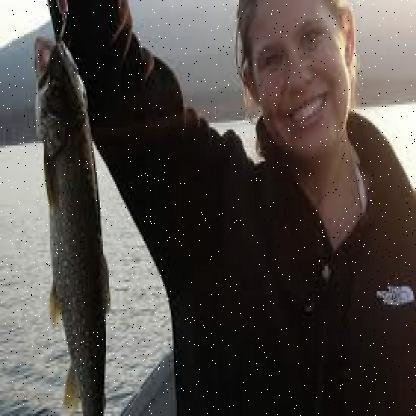fish: (29, 34, 113, 414)
